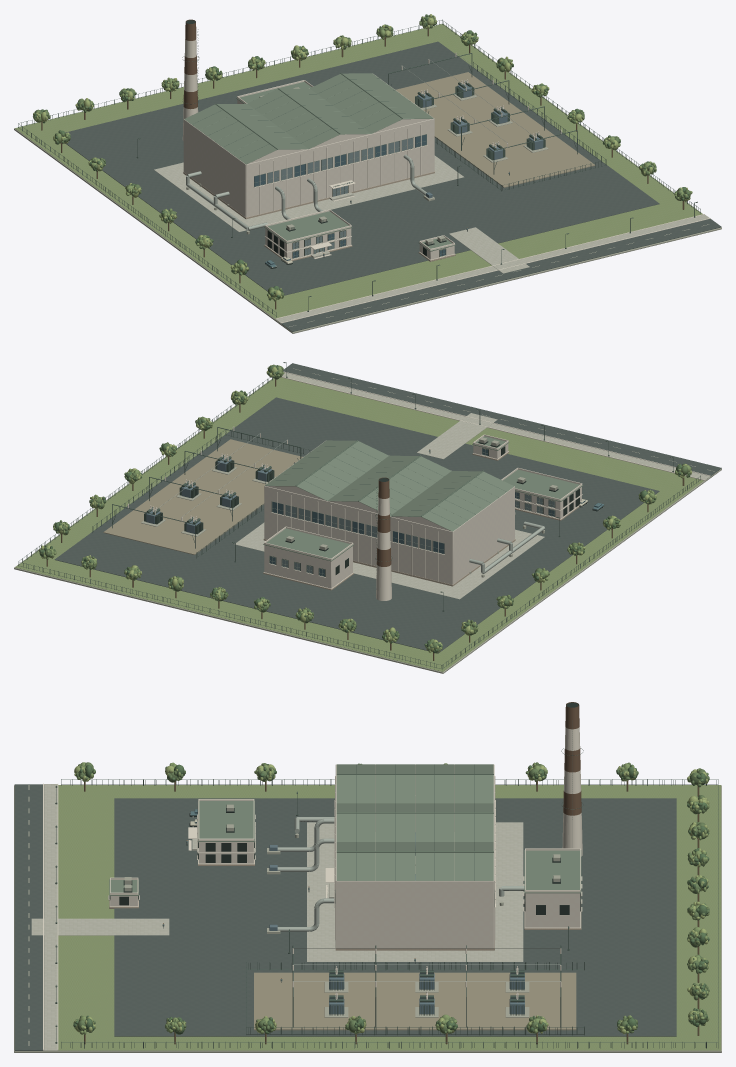
Rendered from power-connected.glb.
The picture shows the model from 3 angles, top to bottom: view 1: azimuth 30°, elevation 25°; view 2: azimuth 150°, elevation 25°; view 3: azimuth 270°, elevation 25°; orthographic projection. The views are drawn at different scales.
Parts seen in each view (by area): view 1: 材质批次_asphalt, 材质批次_grass, 材质批次_sage_metal_roof, 材质批次_limestone, 材质批次_planter_gravel, 材质批次_plaza_paving, 材质批次_street_metal, 材质批次_warm_cream_trim, 材质批次_poi_service_concrete, 材质批次_leaf_2, 材质批次_leaf_0, 材质批次_leaf_1 (+9 smaller); view 2: 材质批次_asphalt, 材质批次_grass, 材质批次_sage_metal_roof, 材质批次_limestone, 材质批次_planter_gravel, 材质批次_plaza_paving, 材质批次_street_metal, 材质批次_warm_cream_trim, 材质批次_poi_service_concrete, 材质批次_leaf_1, 材质批次_leaf_2, 材质批次_leaf_0 (+9 smaller); view 3: 材质批次_asphalt, 材质批次_grass, 材质批次_sage_metal_roof, 材质批次_planter_gravel, 材质批次_plaza_paving, 材质批次_limestone, 材质批次_street_metal, 材质批次_warm_cream_trim, 材质批次_poi_service_concrete, 材质批次_leaf_1, 材质批次_wheel_and_hardware, 材质批次_leaf_3 (+8 smaller).
Boxes of the visible parts, bbox=[...] form: 材质批次_asphalt: bbox=[54, 41, 721, 331]; 材质批次_grass: bbox=[15, 24, 702, 318]; 材质批次_sage_metal_roof: bbox=[184, 73, 455, 251]; 材质批次_limestone: bbox=[183, 74, 454, 259]; 材质批次_planter_gravel: bbox=[395, 72, 595, 187]; 材质批次_plaza_paving: bbox=[154, 155, 709, 323]; 材质批次_street_metal: bbox=[18, 19, 700, 317]; 材质批次_warm_cream_trim: bbox=[182, 39, 710, 323]; 材质批次_poi_service_concrete: bbox=[14, 24, 721, 333]; 材质批次_leaf_2: bbox=[33, 14, 688, 300]; 材质批次_leaf_0: bbox=[33, 16, 692, 301]; 材质批次_leaf_1: bbox=[33, 15, 690, 299]; 材质批次_asphalt: bbox=[54, 363, 721, 653]; 材质批次_grass: bbox=[15, 377, 703, 671]; 材质批次_sage_metal_roof: bbox=[263, 436, 583, 561]; 材质批次_limestone: bbox=[264, 441, 581, 588]; 材质批次_planter_gravel: bbox=[103, 439, 302, 554]; 材质批次_plaza_paving: bbox=[234, 372, 710, 599]; 材质批次_street_metal: bbox=[18, 362, 700, 669]; 材质批次_warm_cream_trim: bbox=[127, 371, 710, 600]; 材质批次_poi_service_concrete: bbox=[14, 379, 721, 673]; 材质批次_leaf_1: bbox=[39, 364, 689, 652]; 材质批次_leaf_2: bbox=[40, 365, 692, 652]; 材质批次_leaf_0: bbox=[38, 366, 691, 653]; 材质批次_asphalt: bbox=[14, 784, 676, 1050]; 材质批次_grass: bbox=[58, 785, 720, 1050]; 材质批次_sage_metal_roof: bbox=[109, 764, 581, 895]; 材质批次_planter_gravel: bbox=[254, 972, 576, 1030]; 材质批次_plaza_paving: bbox=[31, 784, 523, 1050]; 材质批次_limestone: bbox=[110, 764, 580, 948]; 材质批次_street_metal: bbox=[55, 721, 718, 1048]; 材质批次_warm_cream_trim: bbox=[43, 727, 582, 1050]; 材质批次_poi_service_concrete: bbox=[14, 785, 721, 1052]; 材质批次_leaf_1: bbox=[73, 762, 709, 1033]; 材质批次_wheel_and_hardware: bbox=[192, 816, 560, 981]; 材质批次_leaf_3: bbox=[73, 763, 709, 1034].
Size of the model in its own units: 160 by 43.6 by 180.
Materials: 31 (5 with a texture image).
